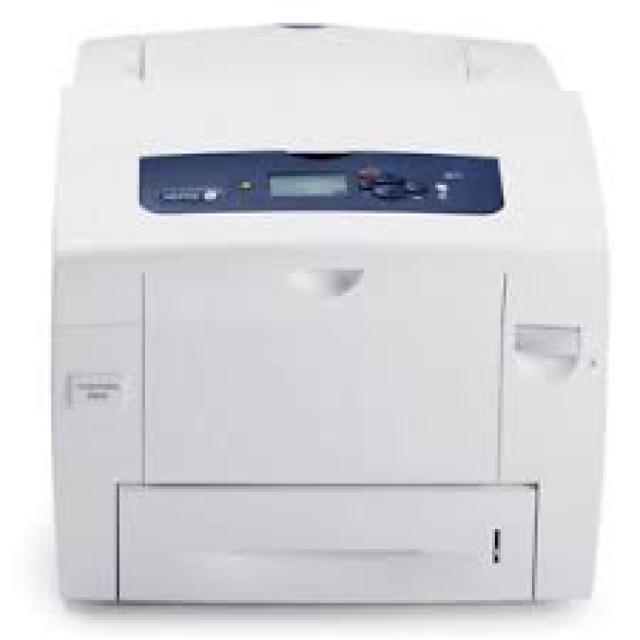printer: (31, 3, 624, 623)
